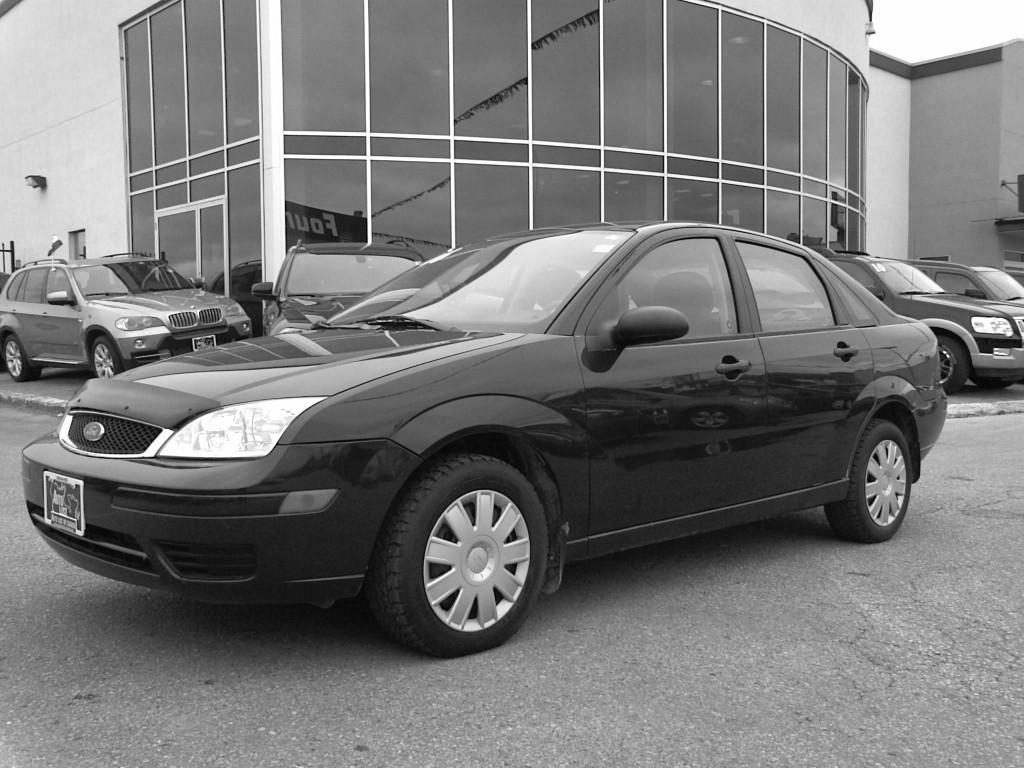car: (20, 222, 948, 654)
